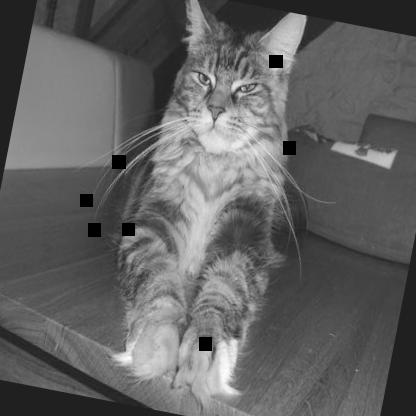cat: (82, 0, 334, 415)
